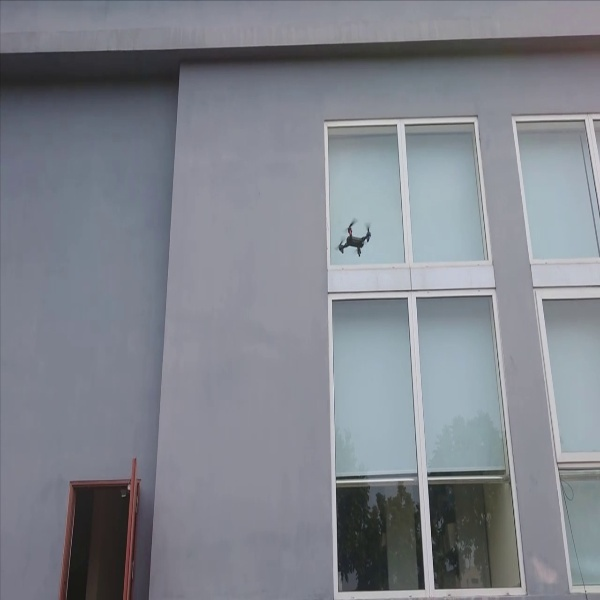drone: (334, 213, 374, 260)
